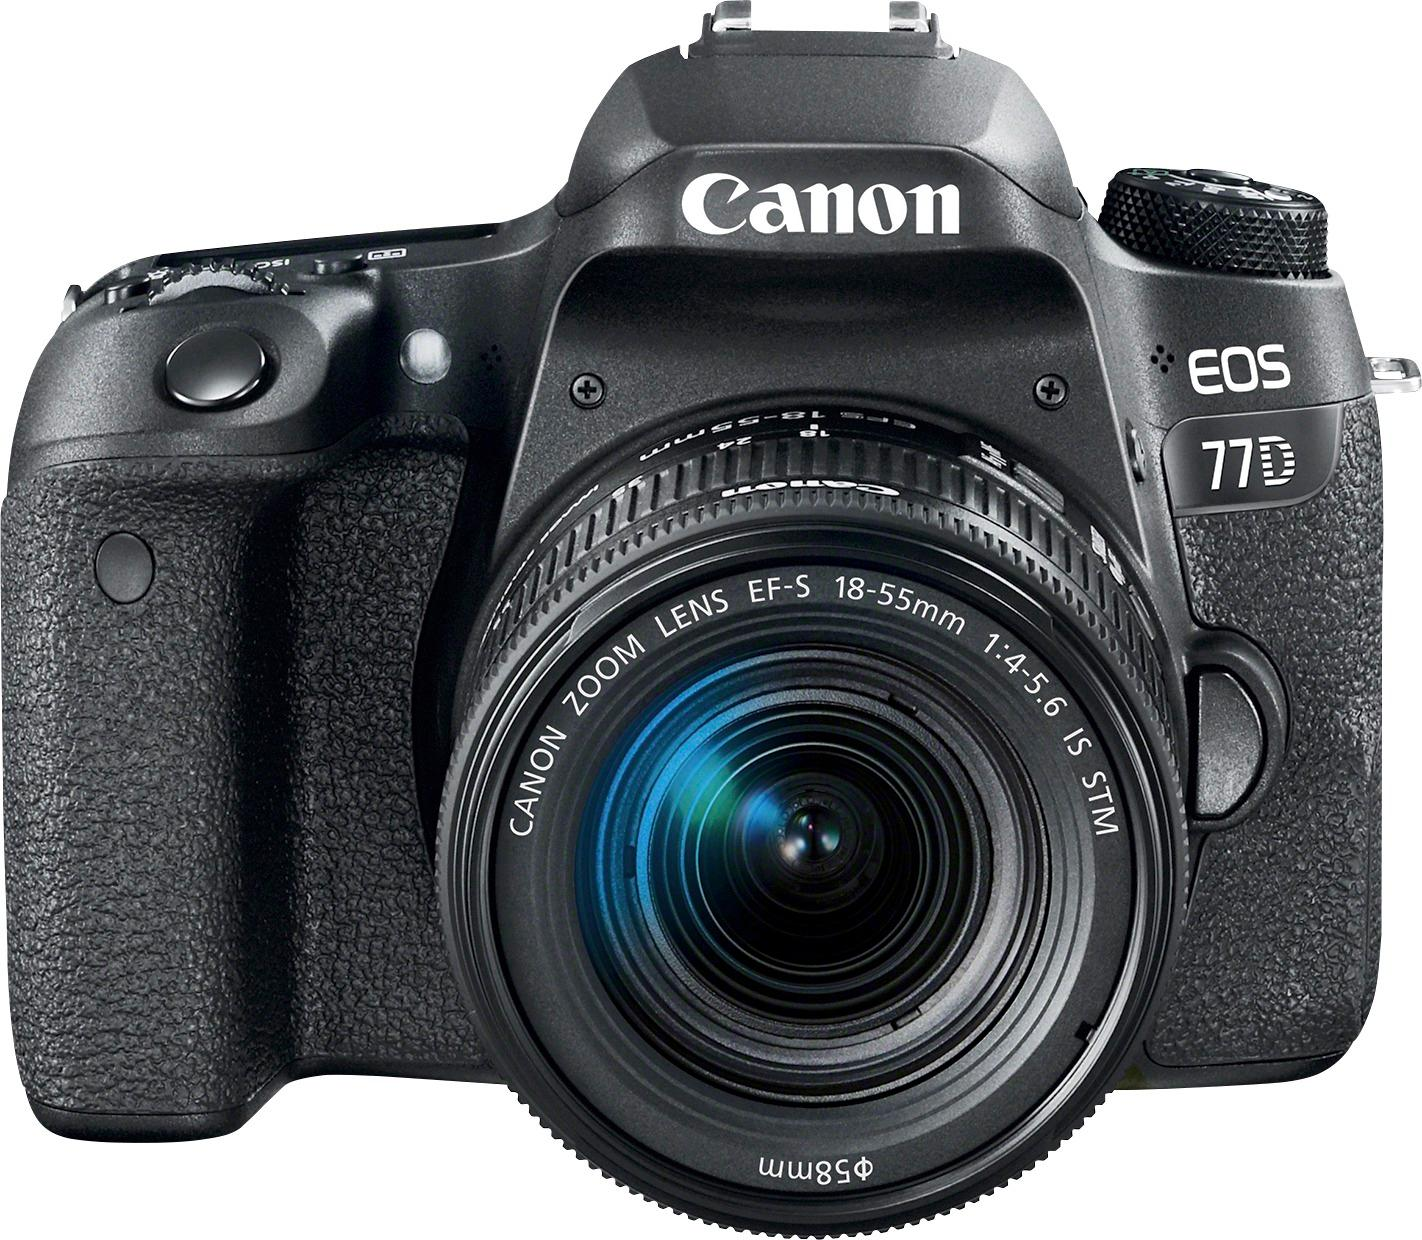kamera: (1, 1, 1422, 1240)
